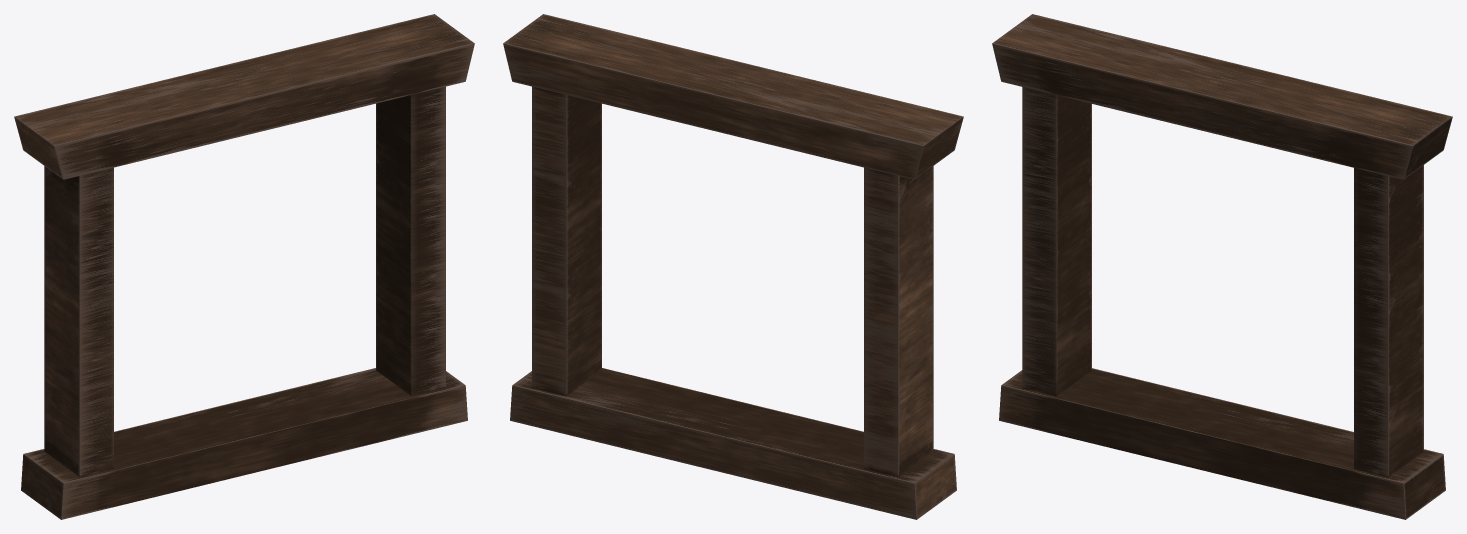
The model's file is window2OuterWindowFrame.glb.
3 renders of one model, left to right at view 1: azimuth 30°, elevation 25°; view 2: azimuth 150°, elevation 25°; view 3: azimuth 330°, elevation 25°, orthographic.
Visible parts, largest first — view 1: window2OuterWindowFrame; view 2: window2OuterWindowFrame; view 3: window2OuterWindowFrame.
Part boxes in pixels (x1,y1,x2,y2): window2OuterWindowFrame: [14, 14, 474, 519]; window2OuterWindowFrame: [503, 14, 963, 519]; window2OuterWindowFrame: [992, 14, 1452, 519].
Bounding box in the file's own units: 0.7216 × 0.6157 × 0.1198.
1 material, 1 textured.
